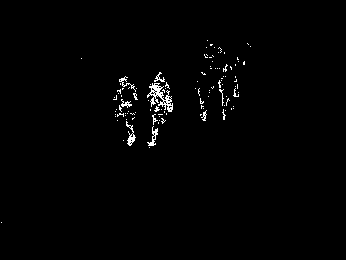person: (146, 70, 173, 147), (112, 76, 138, 148), (219, 62, 240, 121), (195, 67, 213, 123)
